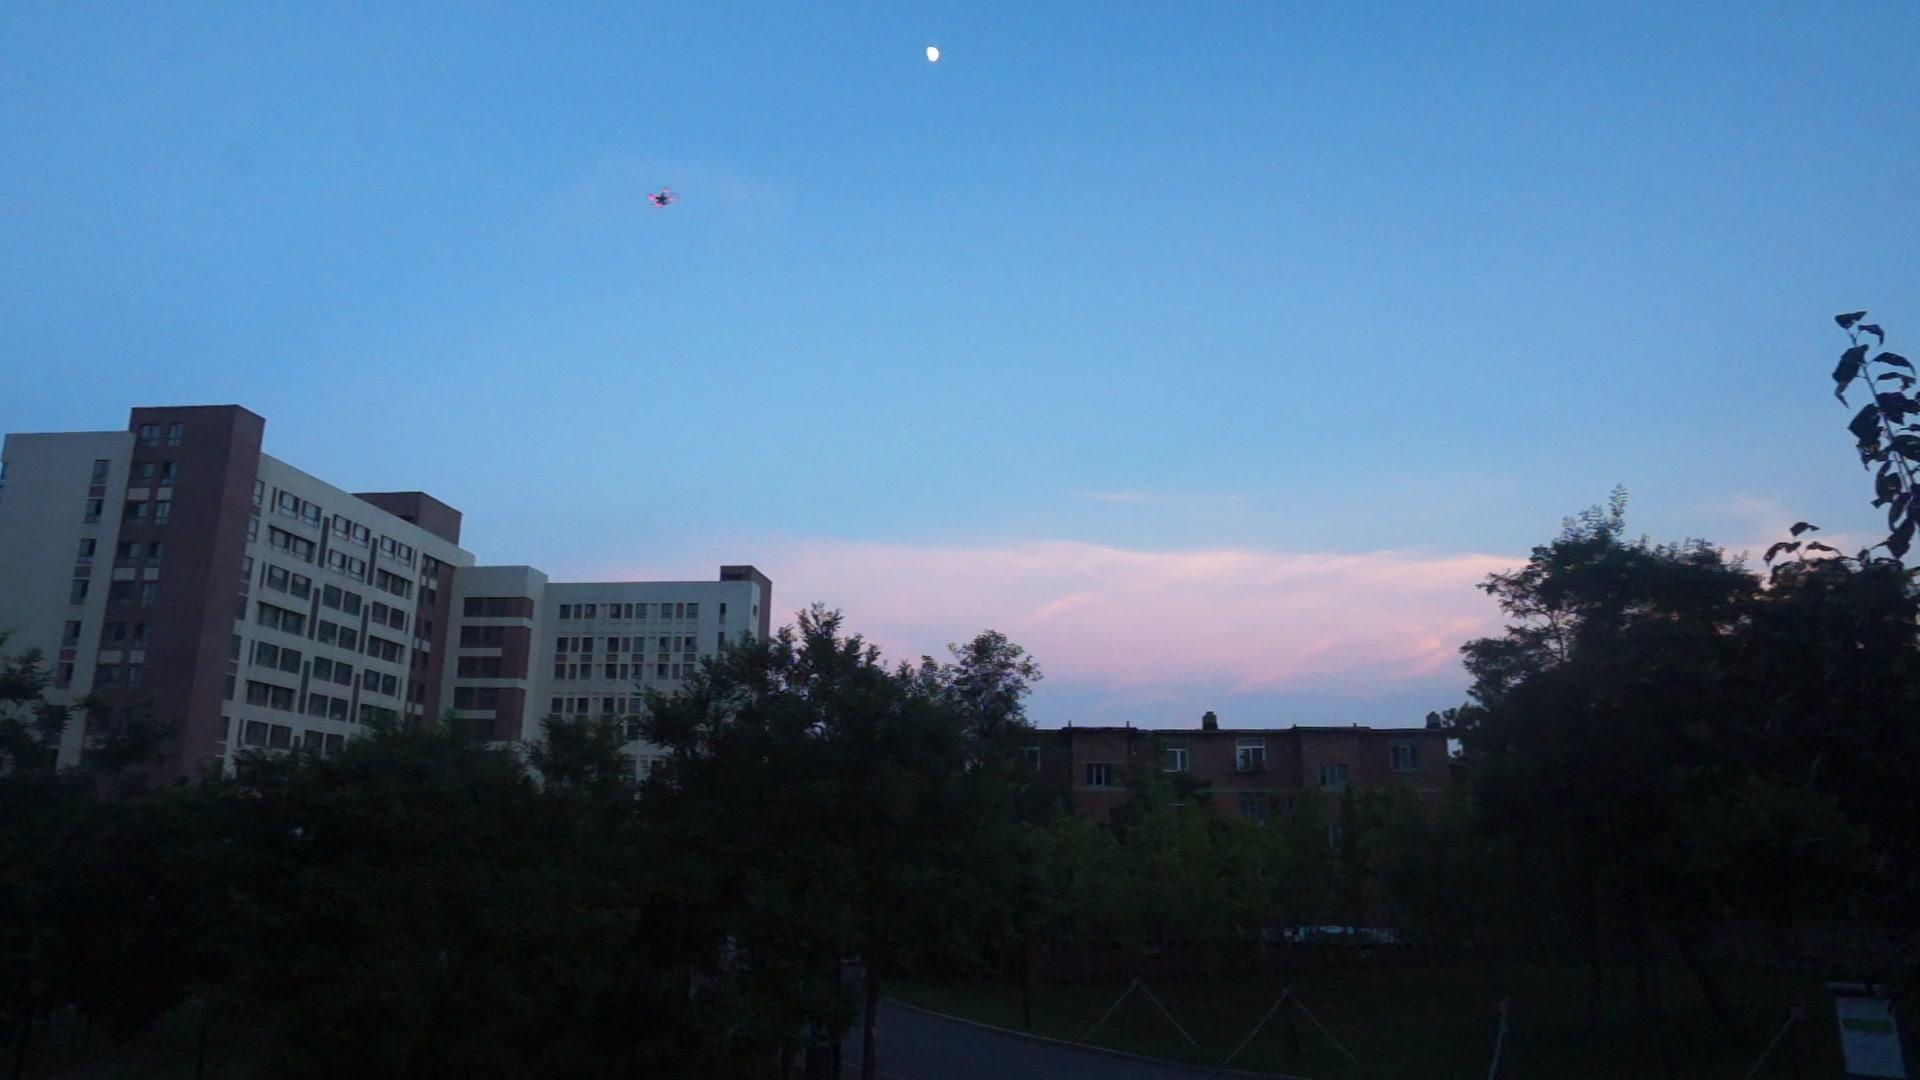UAV: (647, 189, 680, 208)
